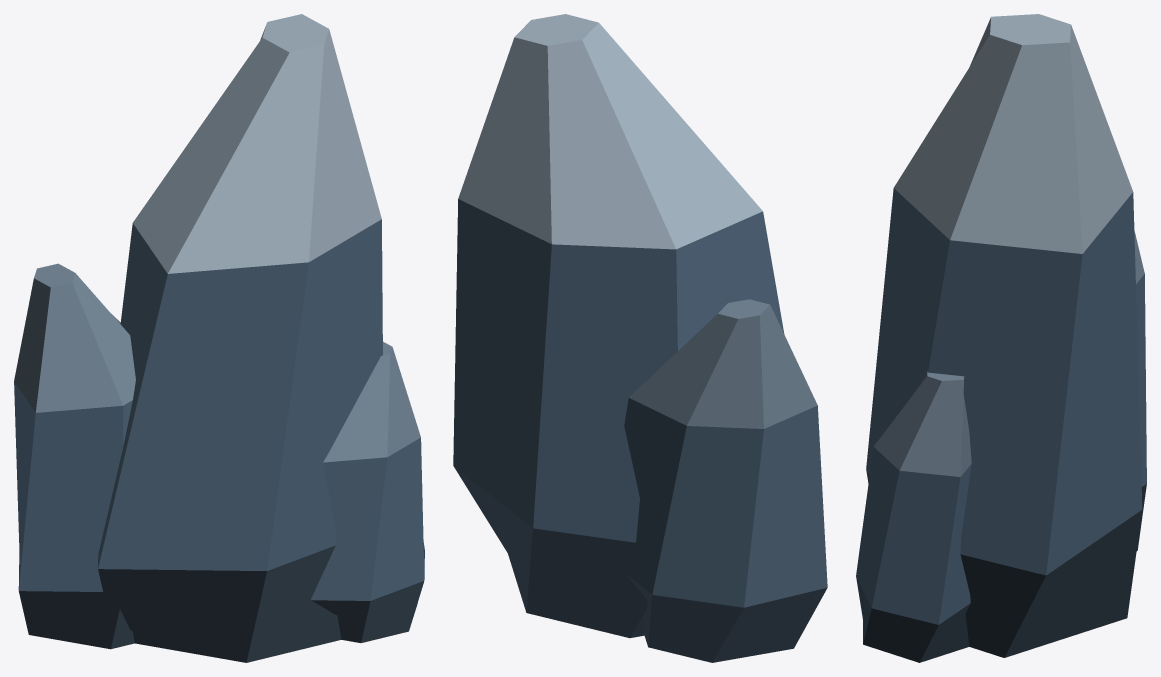
Rendered from ice-shard.glb.
3 renders of one model, left to right at view 1: azimuth 30°, elevation 25°; view 2: azimuth 150°, elevation 25°; view 3: azimuth 270°, elevation 25°, orthographic. The views are drawn at different scales.
Visible parts, largest first — view 1: ice-shard; view 2: ice-shard; view 3: ice-shard.
Part boxes in pixels (<box>): ice-shard: <box>14,14,424,662</box>; ice-shard: <box>453,14,827,662</box>; ice-shard: <box>856,14,1146,662</box>.
Size of the model in its own units: 0.53 by 0.75 by 0.3318.
